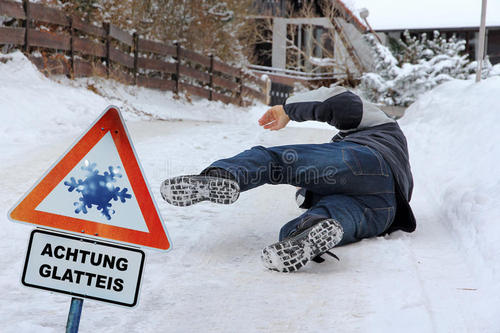fall: (164, 69, 428, 272)
